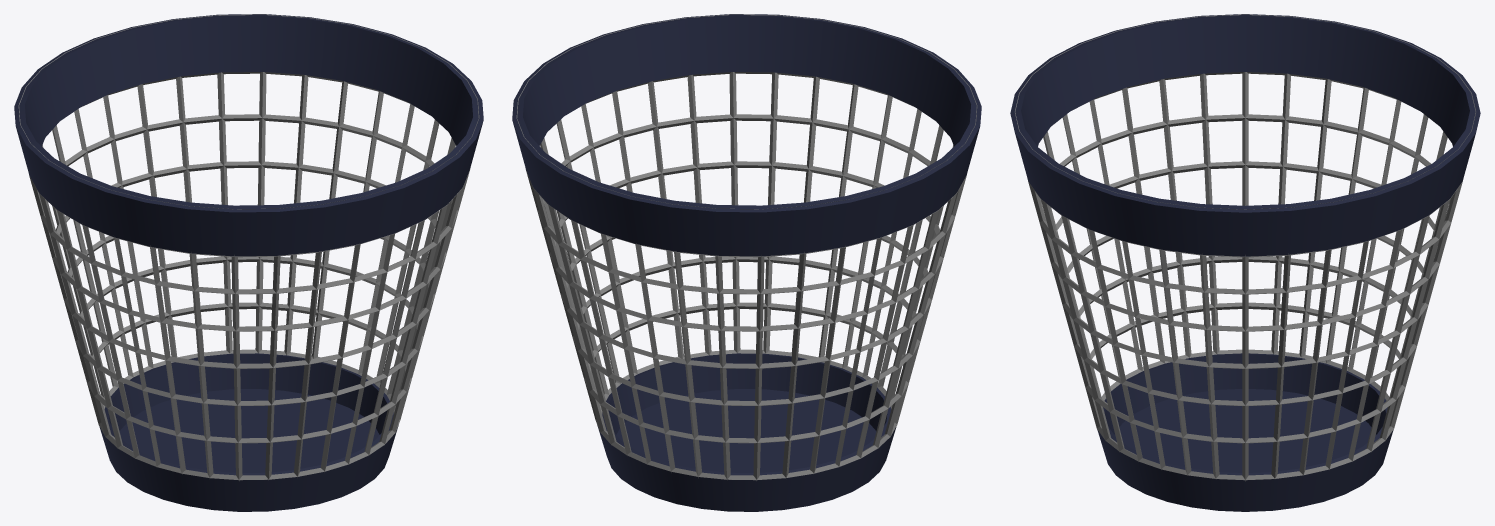
Rendered from Trash_box.fbx.
3 renders of one model, left to right at view 1: azimuth 30°, elevation 25°; view 2: azimuth 150°, elevation 25°; view 3: azimuth 270°, elevation 25°, orthographic.
Parts seen in each view (by area): view 1: 圓柱體.001, 圓柱體; view 2: 圓柱體.001, 圓柱體; view 3: 圓柱體.001, 圓柱體.
Boxes of the visible parts, x1,y1,x2,y2 form: 圓柱體.001: (14,14,483,511); 圓柱體: (18,14,479,481); 圓柱體.001: (512,14,981,511); 圓柱體: (516,14,977,481); 圓柱體.001: (1010,14,1480,511); 圓柱體: (1015,14,1475,481).
Bounding box in the file's own units: 343 × 275 × 343.
